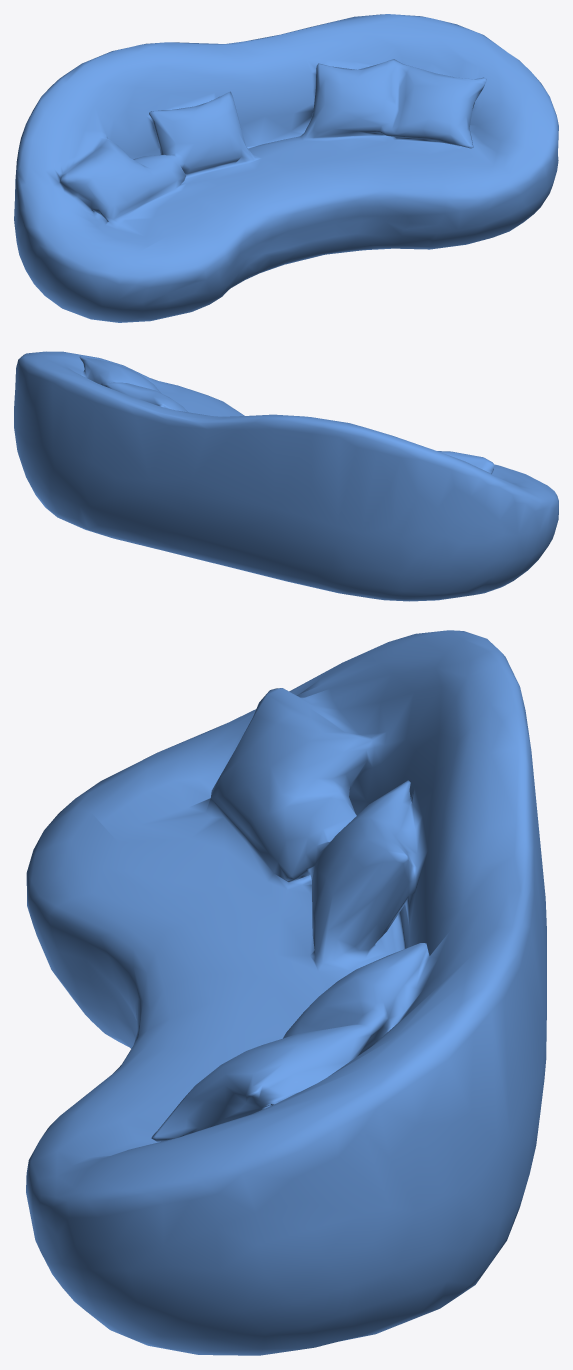
The model's file is chaise_5.glb.
3 views of the same model, one above another, from view 1: azimuth 30°, elevation 25°; view 2: azimuth 150°, elevation 25°; view 3: azimuth 270°, elevation 25° (orthographic). The views are drawn at different scales.
Visible parts, largest first — view 1: Mesh1; view 2: Mesh1; view 3: Mesh1.
Boxes of the visible parts, left/top/right/bottom form: Mesh1: left=14, top=14, right=558, bottom=322; Mesh1: left=14, top=351, right=558, bottom=601; Mesh1: left=26, top=630, right=546, bottom=1355.
Bounding box in the file's own units: 3.97 × 1.34 × 1.75.
